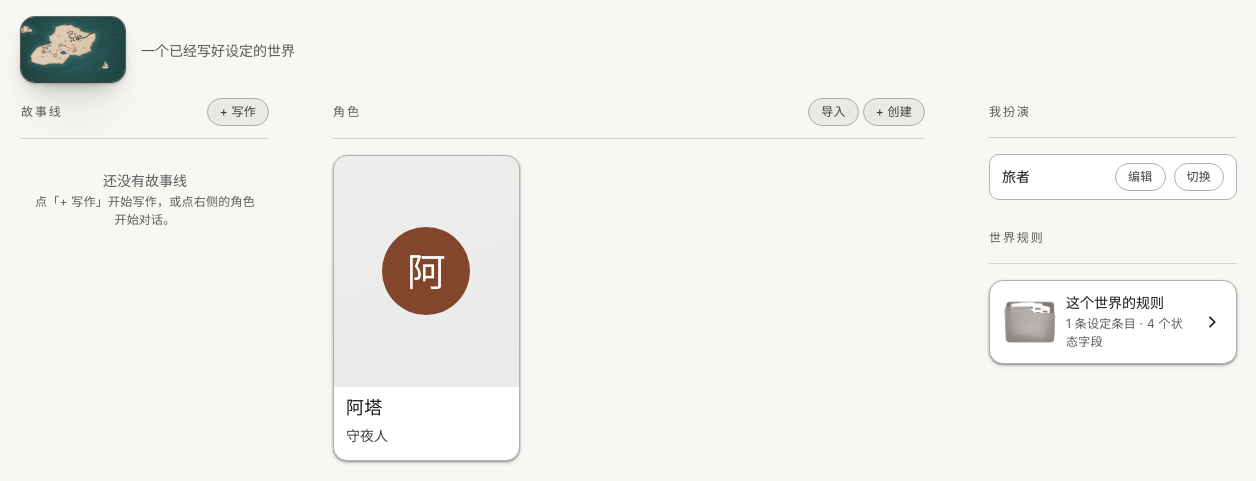
it: CharactersPage › 我扮演：展开后的玩家卡不显示简介
Click the button "切换". click: point(1199, 177)
box: [1174,163,1224,191]
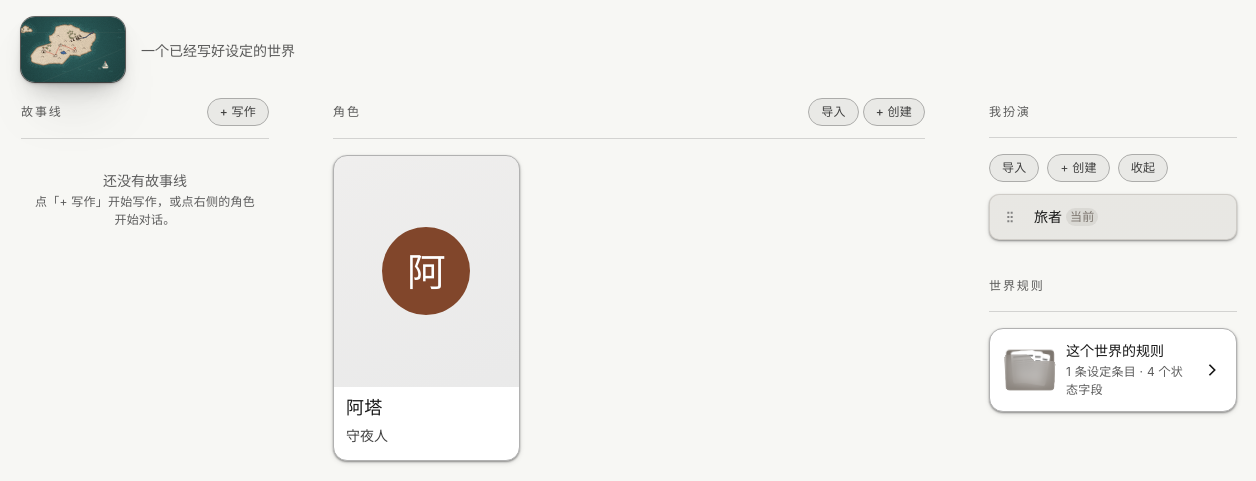
expect the button with class "we-persona-card" is shown: met, box [989,194,1237,240]
